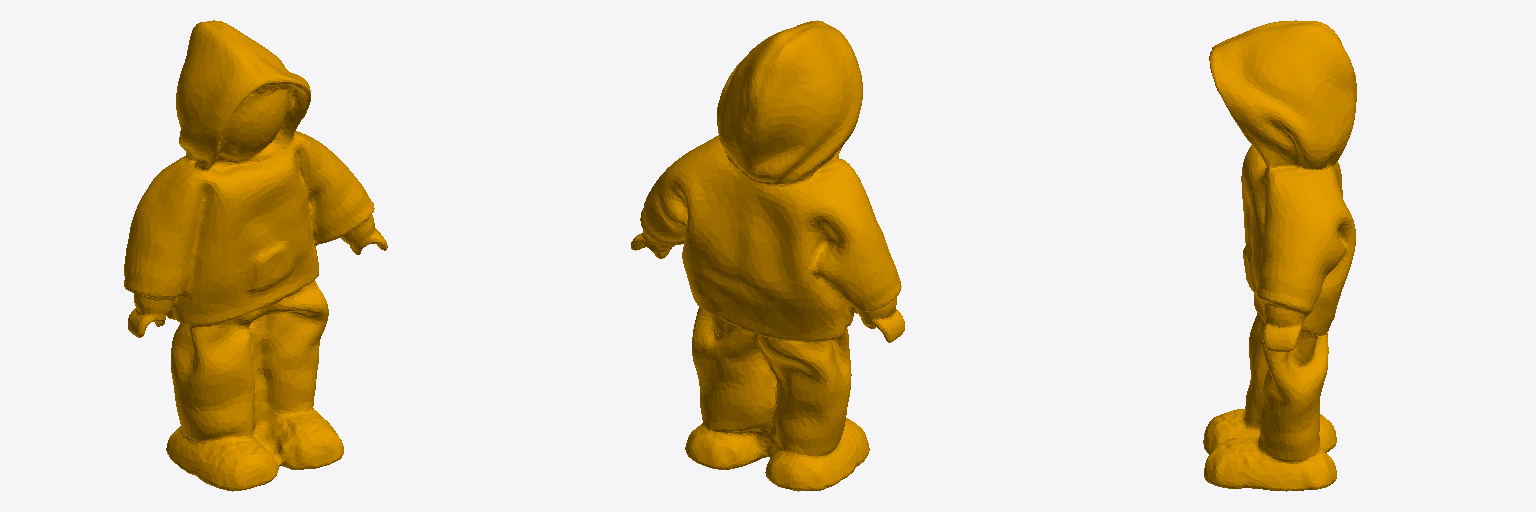
URDF robot description (3D_Dollhouse_Happy_Brother):

<robot name="3D_Dollhouse_Happy_Brother">
    <link name="base">
        <inertial>
            <origin xyz="-3.934646121485189e-19 2.9509845911138917e-19 6.295433794376302e-18" />
            <mass value="4.4849064412948164e-05" />
            <inertia ixx="2.8318199261678517e-08" ixy="-1.880463159520058e-10" 
                     ixz="7.680615840763376e-10" iyy="3.1880446610651795e-08" 
                     iyz="-8.066068741862222e-10" izz="6.107168789079983e-09" />
        </inertial>
        <visual>
            <origin xyz="0 0 0" />
            <geometry>
                <mesh filename="visual_geometry.obj" />
            </geometry>
        </visual>
        <collision>
            <origin xyz="0 0 0" />
            <geometry>
                <mesh filename="collision_geometry.obj" />
            </geometry>
        </collision>
    </link>
</robot>

--- Render facts (derived) ---
Views: 3 orthographic renders of the robot side by side, from view 1: azimuth 30°, elevation 25°; view 2: azimuth 150°, elevation 25°; view 3: azimuth 270°, elevation 25°.
Model 3D_Dollhouse_Happy_Brother with 1 links and 0 joints (none), rooted at base, posed every joint at zero.
Links seen in each view (by area): view 1: base; view 2: base; view 3: base.
Link boxes in pixels (<box>): base: <box>124,20,387,491</box>; base: <box>631,20,904,491</box>; base: <box>1203,20,1356,491</box>.
Bounding box of the posed robot: 0.0594 × 0.0308 × 0.0955 m (x, y, z).
1 mesh visuals loaded from 1 distinct referenced files (1 OBJ).
